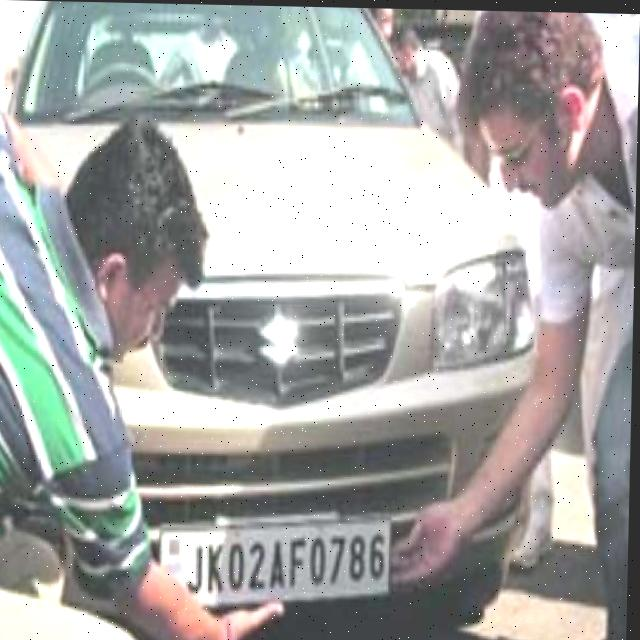plate: (160, 516, 402, 611)
